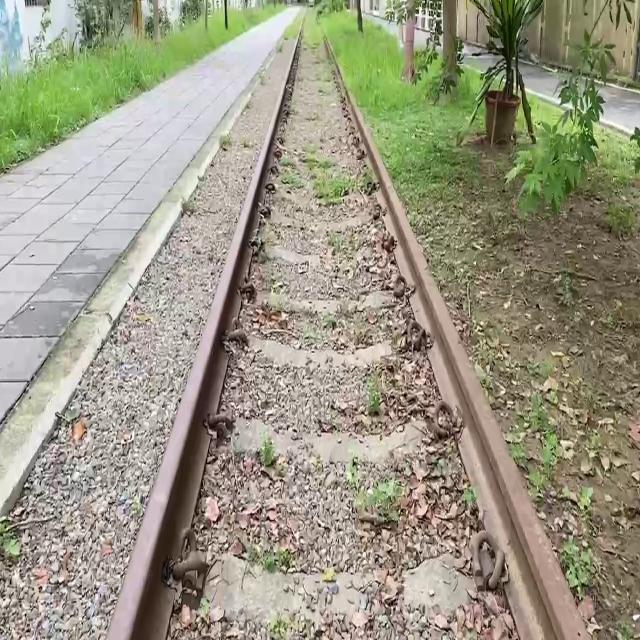rail-track: (169, 38, 519, 639)
